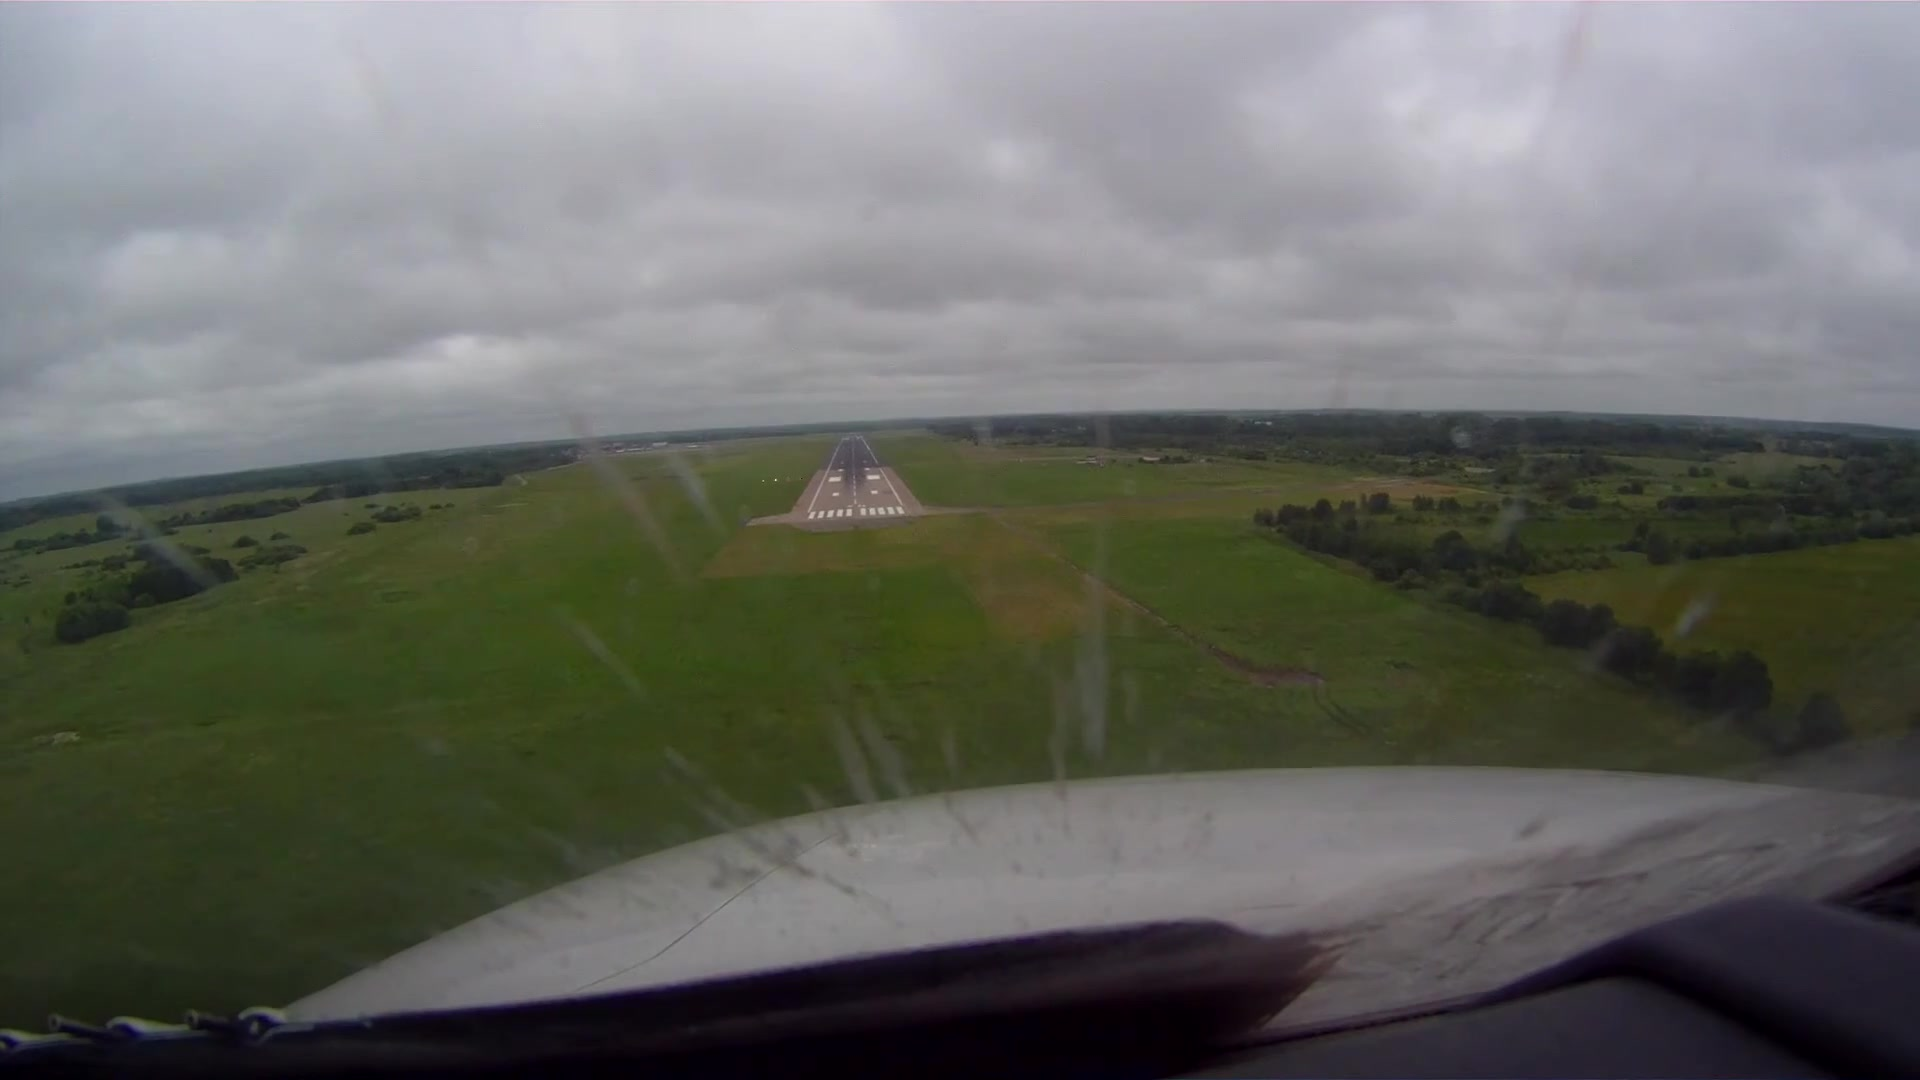entrance: (807, 506, 905, 520)
runway: (804, 436, 906, 525)
